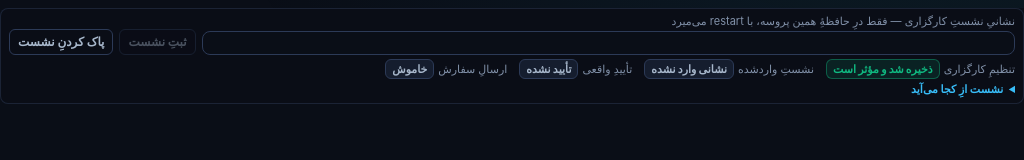
Test: ورودیِ نامعتبر و بی‌محتوا › ردِ بک‌اند (UNSUPPORTED) باِ متنِ خودش خوانده می‌شود و «ثبت شد» نمی‌گوید
This screenshot has width=1024, height=160.
Check: the text "ذخیره شد و مؤثر است" is shown, box [826, 59, 940, 79]
Type "SEC-AbCdEf-0123456789" into the password field with test id "sarkhati-token-input" at [608, 43], box [202, 31, 1015, 55]
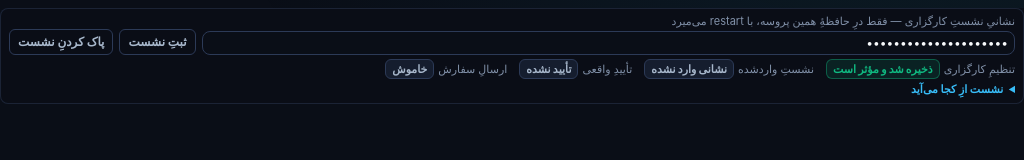
Click the button with test id "sarkhati-token-save" at [158, 42], box [120, 29, 196, 55]
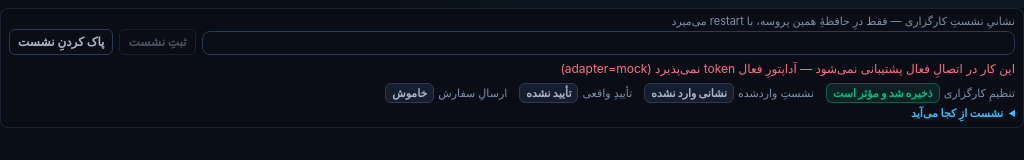
Check: the message with test id "sarkhati-session-note" shows "این کار در اتصالِ فعال پشتیبانی نمی‌شود", box [560, 61, 1015, 76]
Check: the message with test id "sarkhati-session-note" shows "adapter=mock", box [560, 61, 1015, 76]
